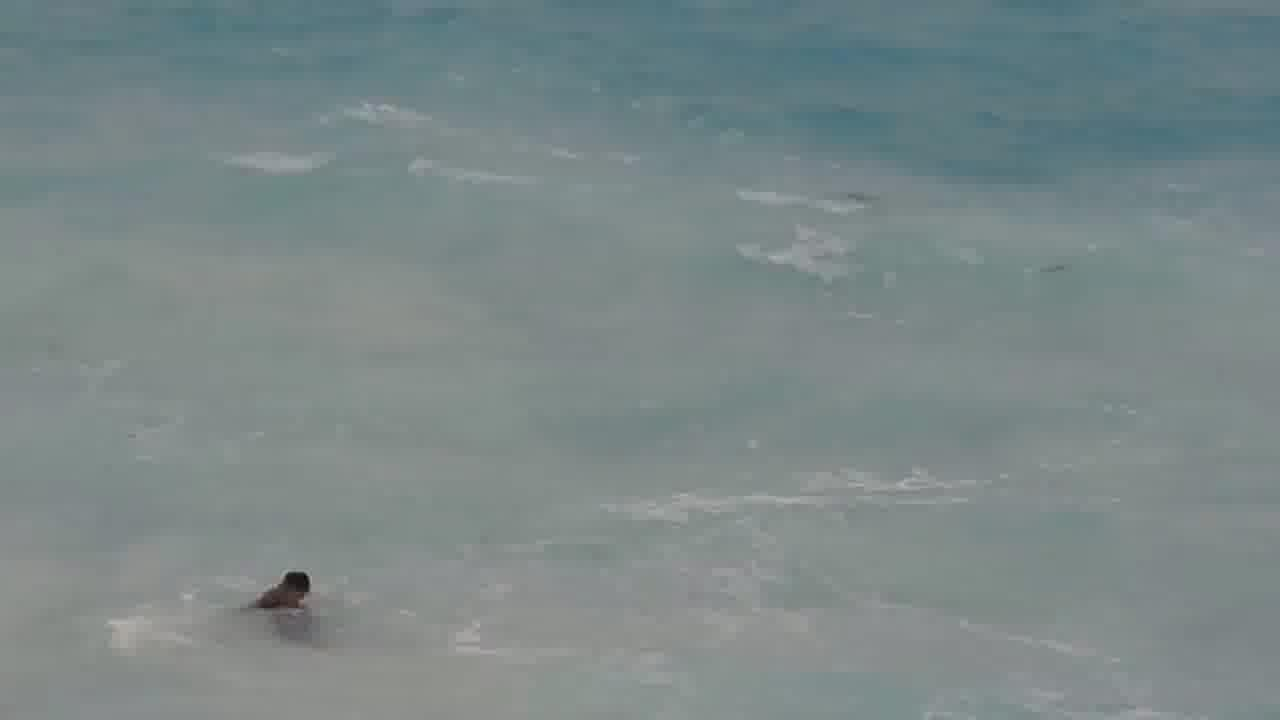swimmer: (228, 565, 330, 621)
